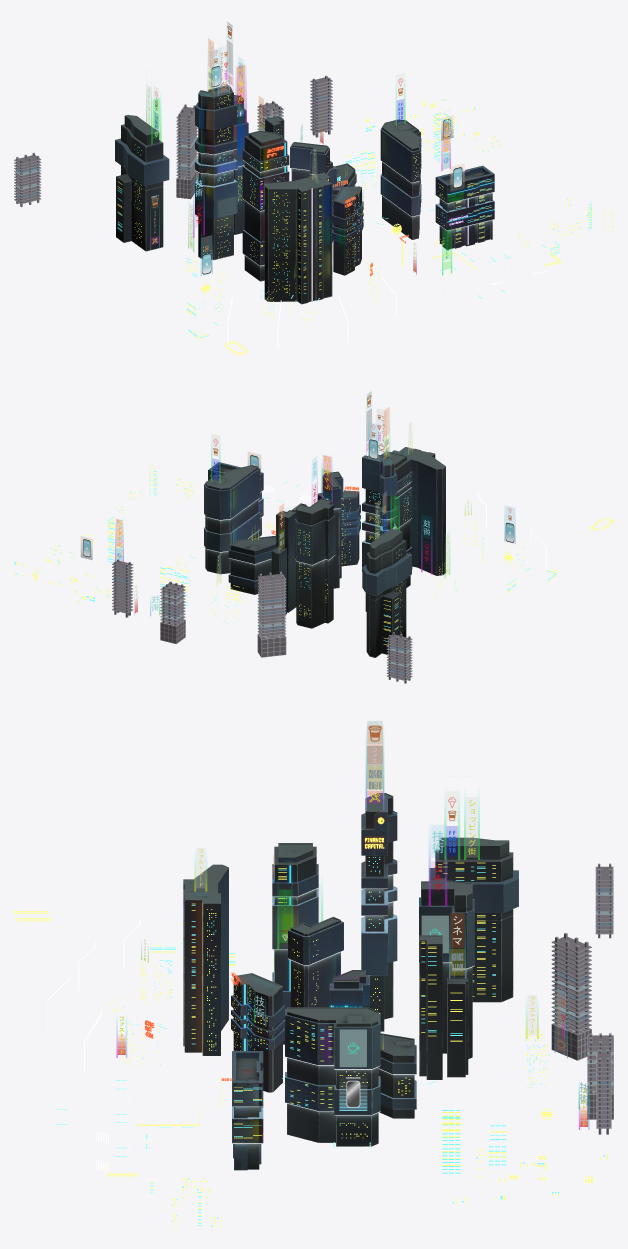
Rendered from city-reduced.glb.
3 renders of one model, top to bottom at view 1: azimuth 30°, elevation 25°; view 2: azimuth 150°, elevation 25°; view 3: azimuth 270°, elevation 25°, orthographic. The views are drawn at different scales.
Parts seen in each view (by area): view 1: Buildings_0, Buildings_0_1, Buildings_3, Buildings_0_top, Buildings_Windows, Publicity_2D_1, Publicity_2D, Buildings_neon, Publicity_neon_orange; view 2: Buildings_0, Buildings_0_1, Buildings_3, Buildings_0_top, Publicity_2D, Publicity_2D_1, Buildings_Windows; view 3: Buildings_0, Buildings_0_1, Buildings_0_top, Buildings_3, Publicity_2D, Publicity_2D_1, Buildings_Windows, Publicity_neon_orange, Buildings_neon.
Boxes of the visible parts, x1,y1,x2,y2 form: Buildings_0: (116,92,490,304); Buildings_0_1: (115,85,494,265); Buildings_3: (14,75,332,207); Buildings_0_top: (116,87,486,204); Buildings_Windows: (117,95,613,339); Publicity_2D_1: (150,74,453,275); Publicity_2D: (146,22,464,278); Buildings_neon: (195,149,563,348); Publicity_neon_orange: (201,110,560,355); Buildings_0: (205,450,445,657); Buildings_0_1: (204,455,412,596); Buildings_3: (112,559,412,683); Buildings_0_top: (205,447,445,598); Publicity_2D: (247,391,471,539); Publicity_2D_1: (80,434,515,616); Buildings_Windows: (14,464,556,645); Buildings_0: (183,797,513,1169); Buildings_0_1: (231,798,518,1170); Buildings_0_top: (183,793,513,1080); Buildings_3: (551,863,613,1134); Publicity_2D: (116,721,479,1066); Publicity_2D_1: (277,884,589,1129); Buildings_Windows: (109,857,607,1229); Publicity_neon_orange: (14,817,552,1176); Buildings_neon: (47,873,474,1184).
Size of the model in its own units: 85.96 by 44.37 by 75.41.
12 materials, 11 textured.
